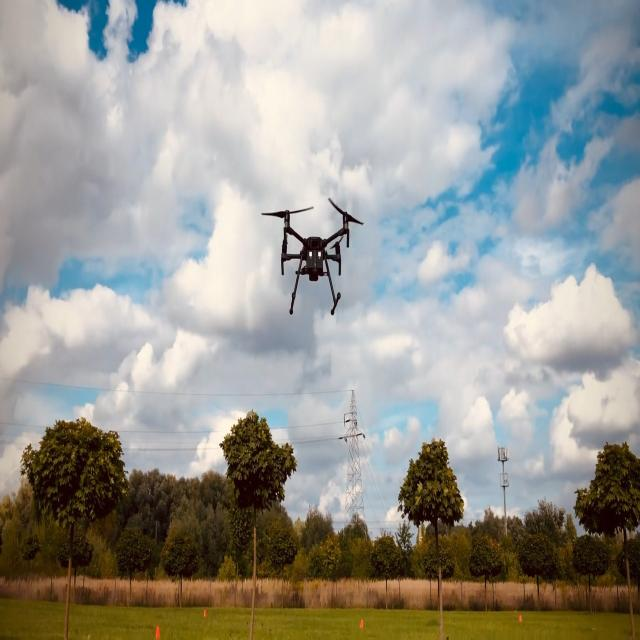drone: (260, 196, 364, 316)
